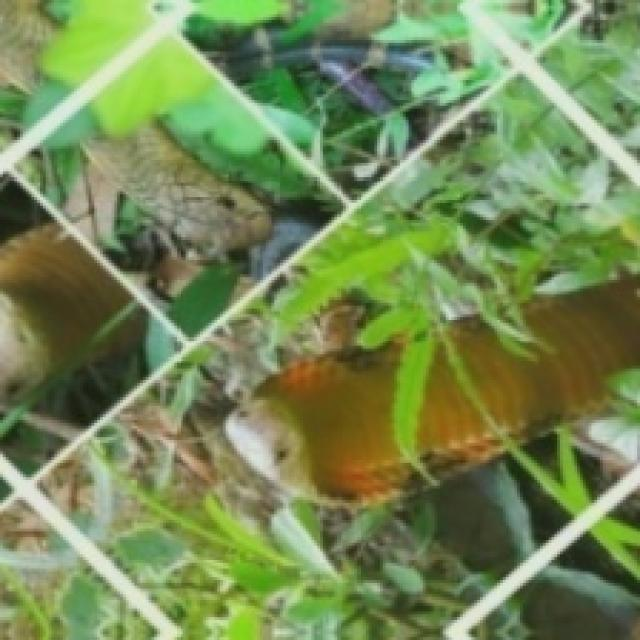king cobra: (414, 280, 637, 474), (226, 343, 411, 500), (83, 123, 269, 254)
